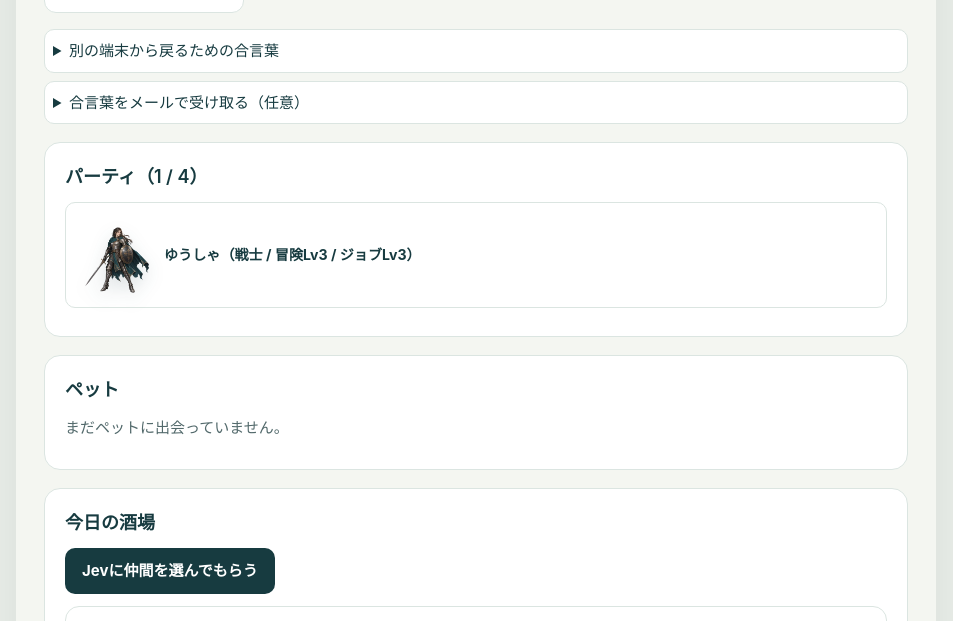
Scenario: 仲間画面（設計書 §5） › Jevの酒場推薦を候補者カードへ表示する
Click the button "Jevに仲間を選んでもらう": x=170, y=571 [65,548,275,594]
(page scrolled)
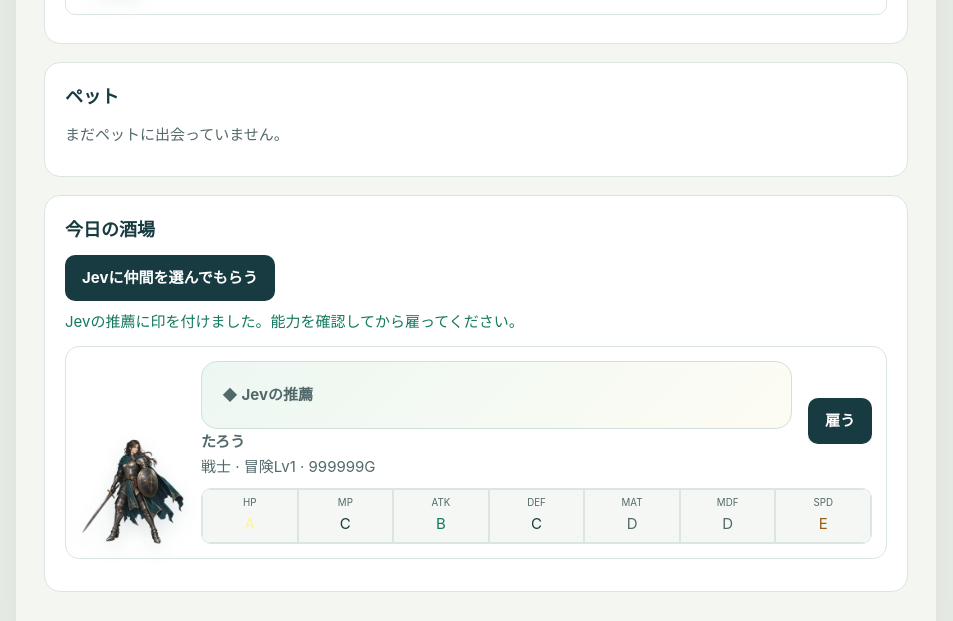
expect the text "◆ Jevの推薦" is shown: met, box [222,385,313,404]
